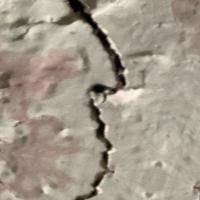crack: (49, 0, 141, 199)
